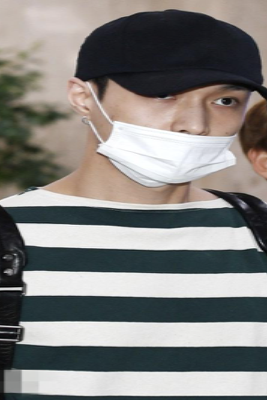mask_weared_incorrect: (90, 86, 248, 184)
